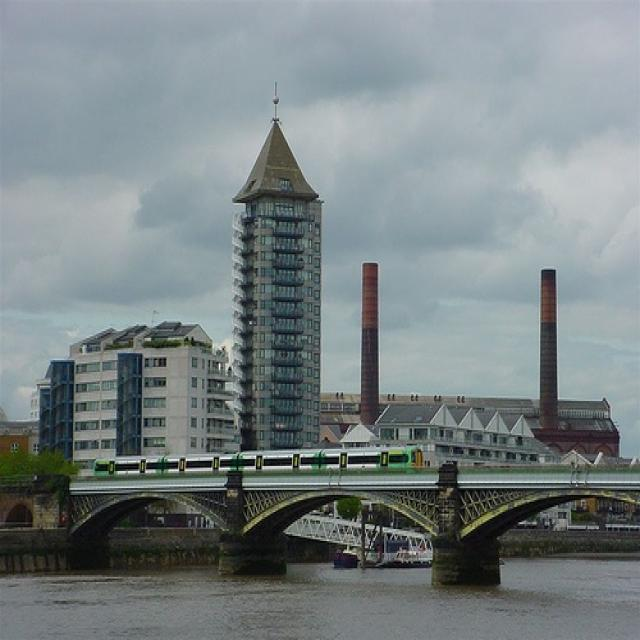boat: (334, 531, 437, 573)
train: (91, 442, 426, 476)
